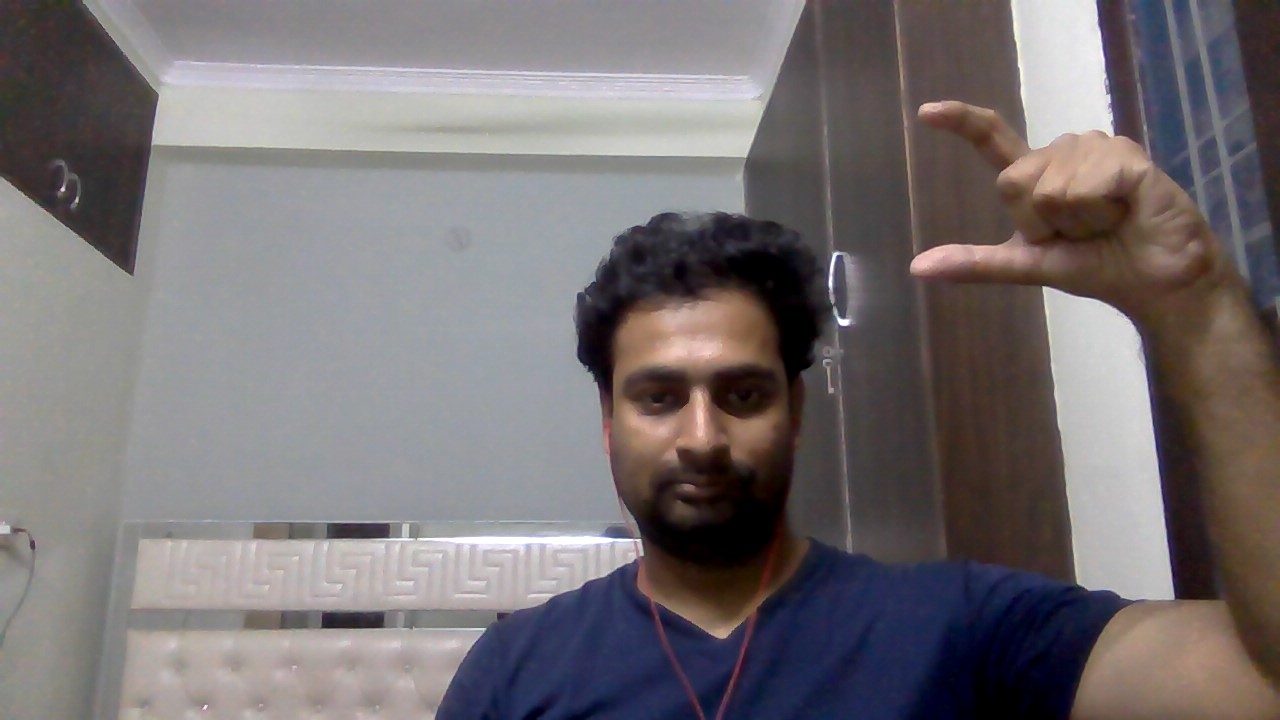Paste: (896, 90, 1217, 321)
